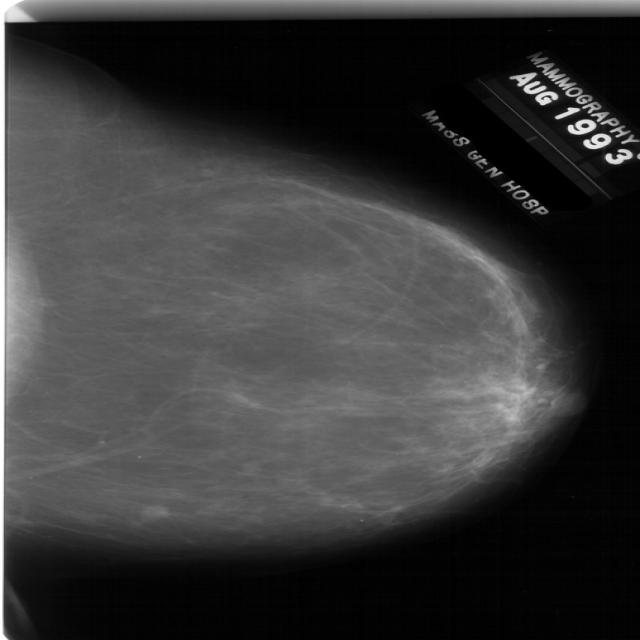tumour: (137, 504, 168, 520)
